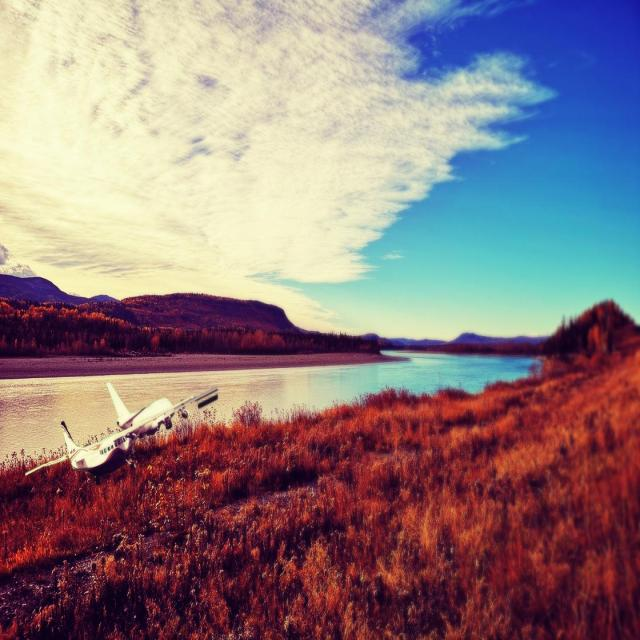airplane: (24, 381, 218, 484)
